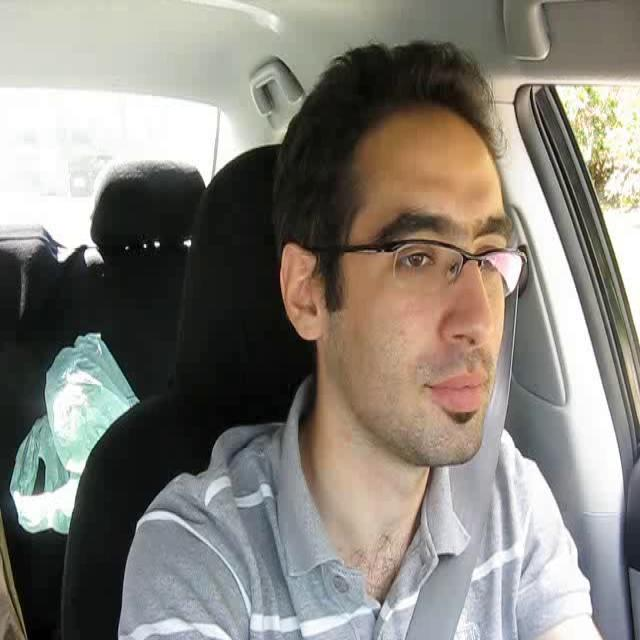close: (422, 365, 490, 417)
